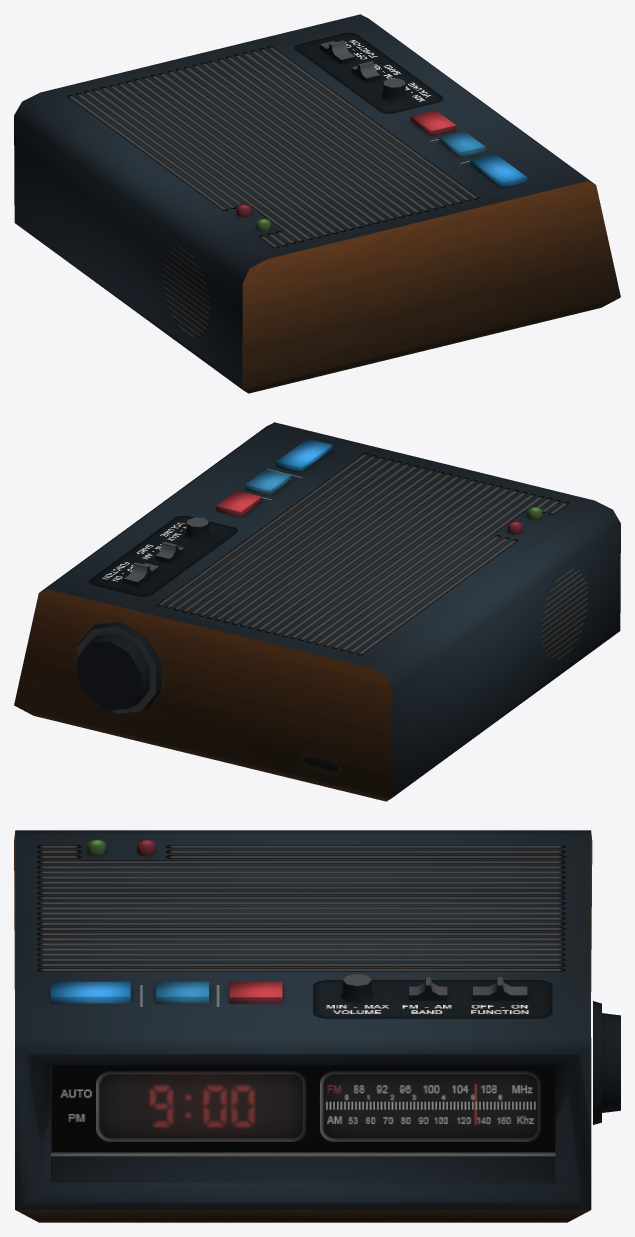
The model's file is no-more-feelings-digital_radio_clock.glb.
3 renders of one model, top to bottom at view 1: azimuth 30°, elevation 25°; view 2: azimuth 150°, elevation 25°; view 3: azimuth 270°, elevation 25°, orthographic. The views are drawn at different scales.
Parts seen in each view (by area): view 1: Object_2; view 2: Object_2; view 3: Object_2.
Boxes of the visible parts, left/top/right/bottom form: Object_2: left=14, top=14, right=620, bottom=393; Object_2: left=14, top=422, right=620, bottom=801; Object_2: left=14, top=830, right=620, bottom=1222.
Bounding box in the file's own units: 1.92 × 0.7406 × 2.11.
Materials: 1 (1 with a texture image).
